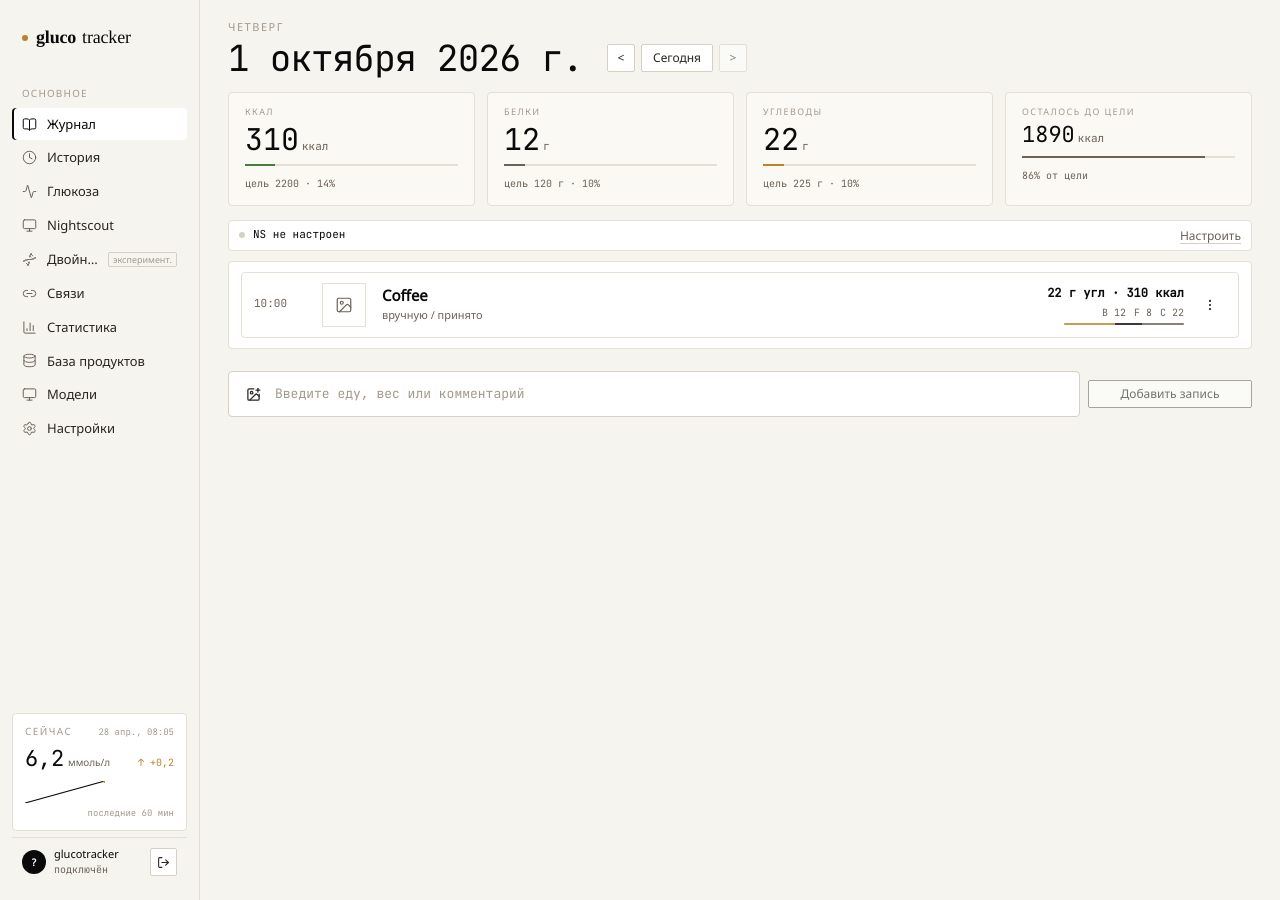
selected journal meal can be deleted
Click the text "Coffee" at [405, 296], box x1=382 y1=286 x2=428 y2=306
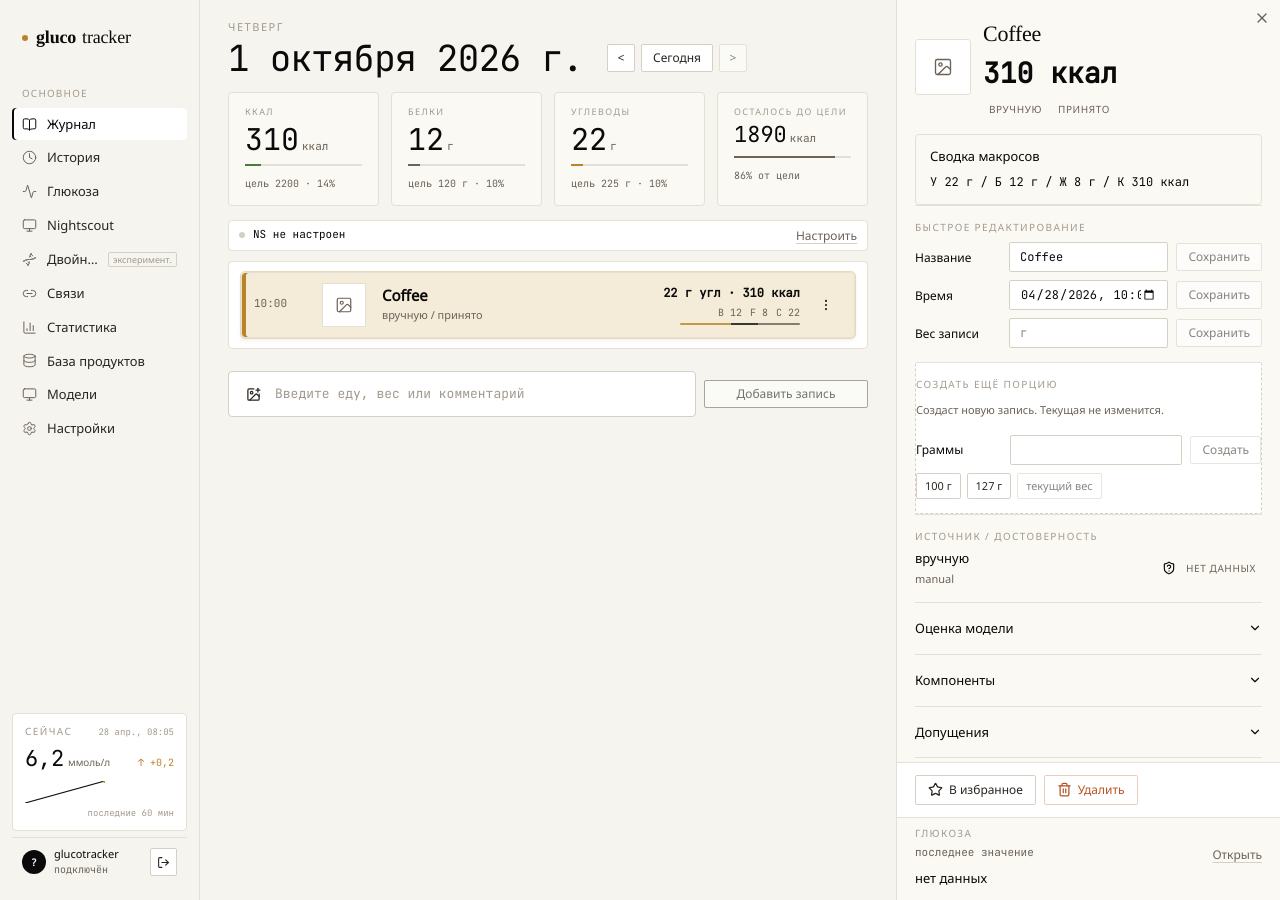
Click the button "Удалить" at [1091, 790], box x1=1044 y1=775 x2=1138 y2=805
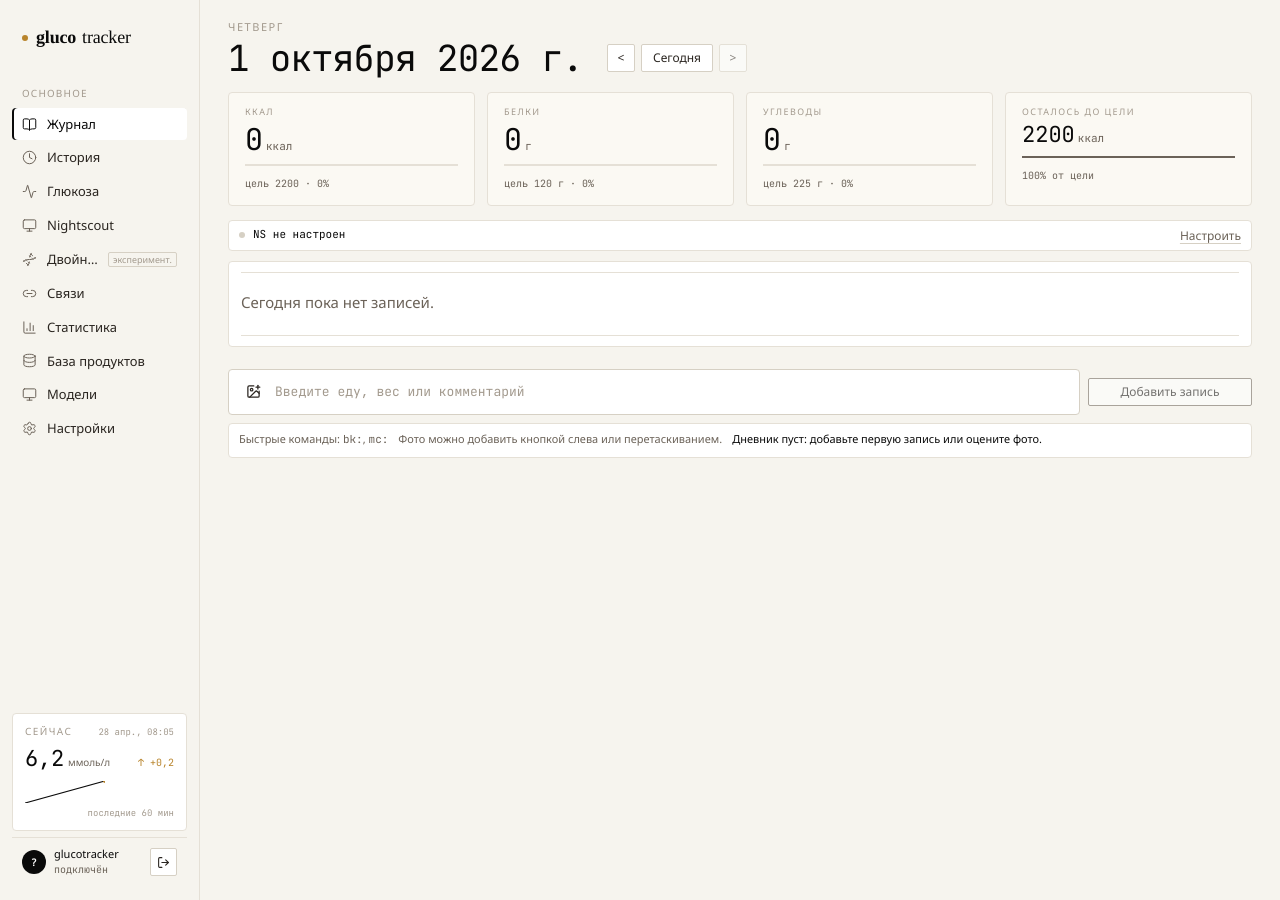
Now the button "Coffee" is gone
